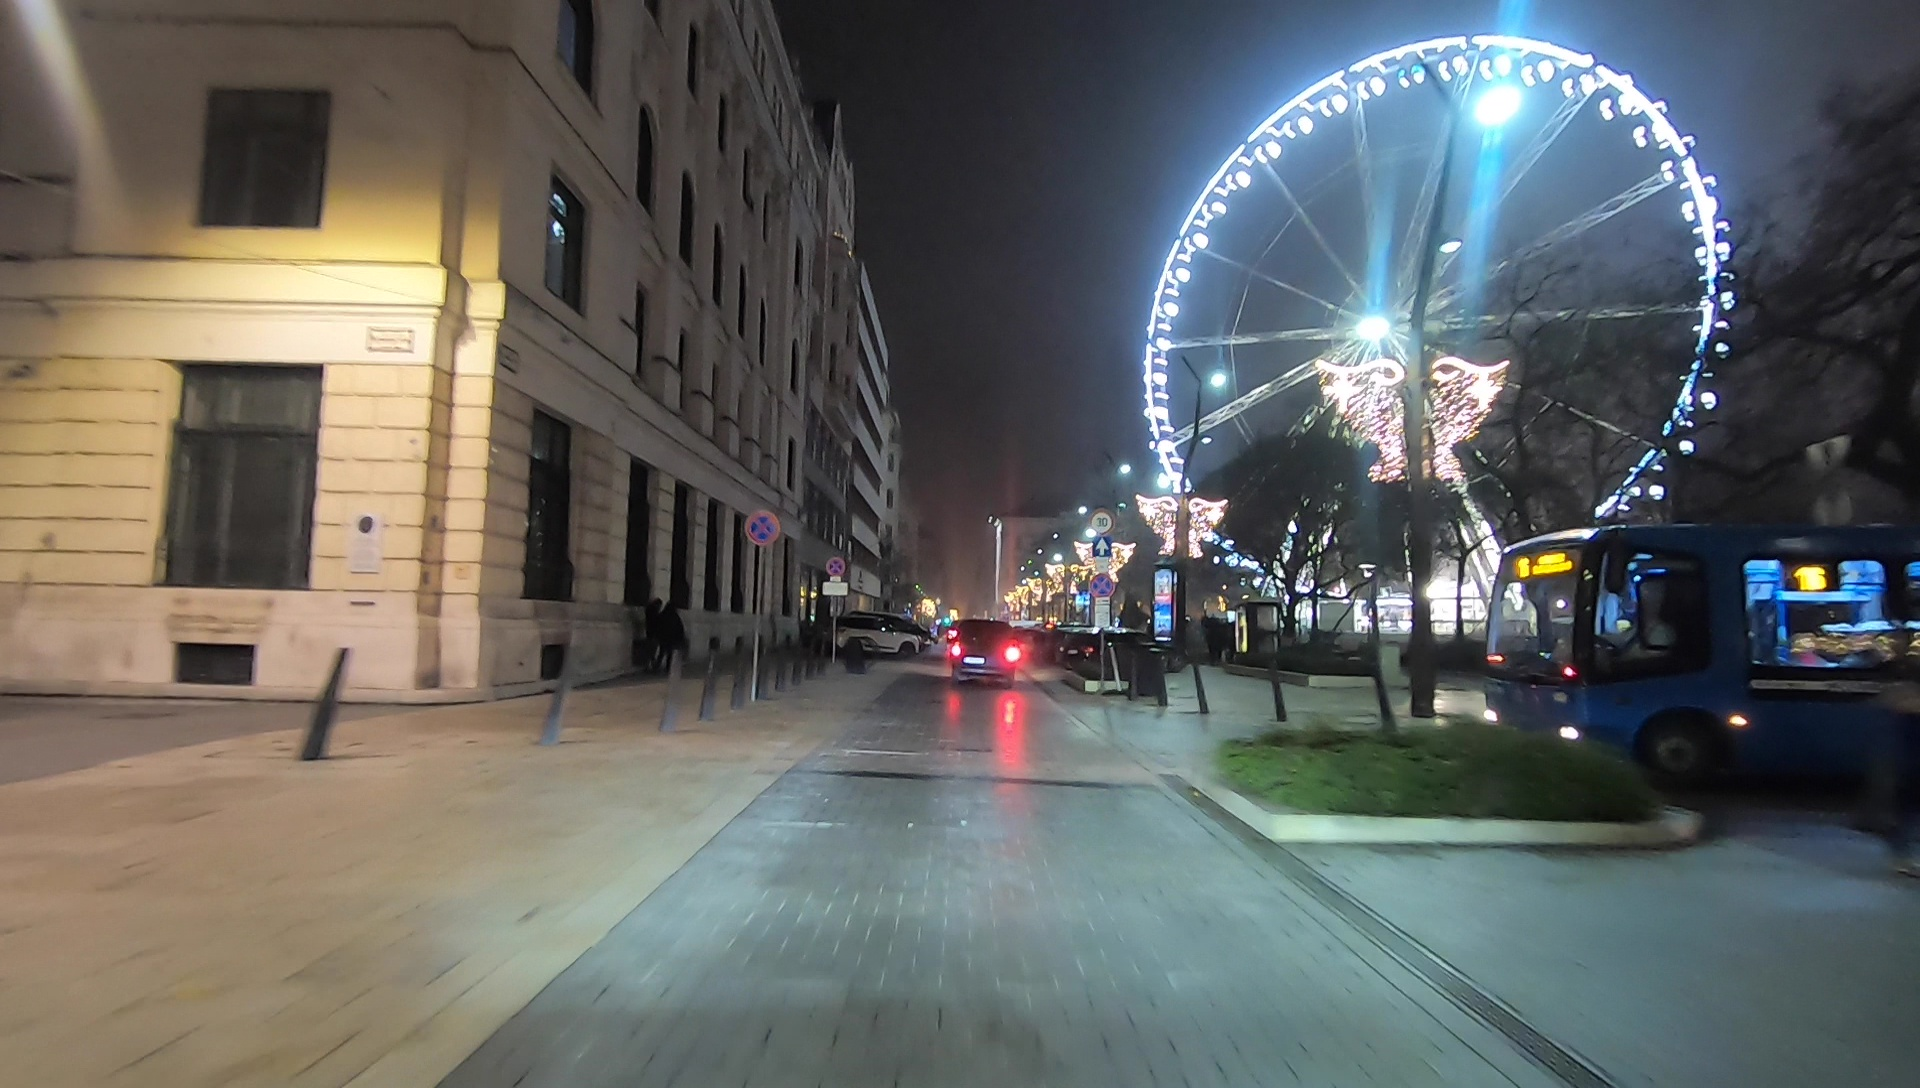person: (660, 601, 686, 673), (646, 595, 662, 672)
